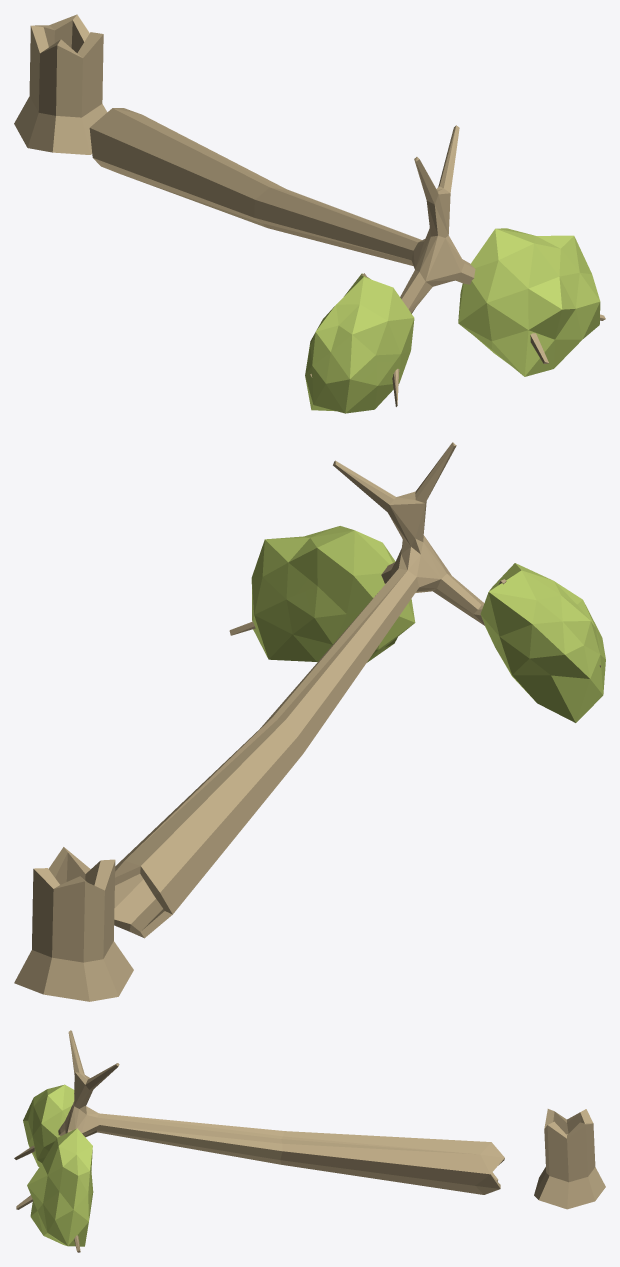
The model's file is DesertTree_1 Broken.fbx.
3 renders of one model, top to bottom at view 1: azimuth 30°, elevation 25°; view 2: azimuth 150°, elevation 25°; view 3: azimuth 270°, elevation 25°, orthographic. The views are drawn at different scales.
Parts seen in each view (by area): view 1: Deserttree_mesh.002; view 2: Deserttree_mesh.002; view 3: Deserttree_mesh.002.
Boxes of the visible parts, left/top/right/bottom form: Deserttree_mesh.002: left=14, top=14, right=605, bottom=413; Deserttree_mesh.002: left=14, top=442, right=605, bottom=1001; Deserttree_mesh.002: left=14, top=1030, right=605, bottom=1252.
Size of the model in its own units: 269 by 193 by 610.
